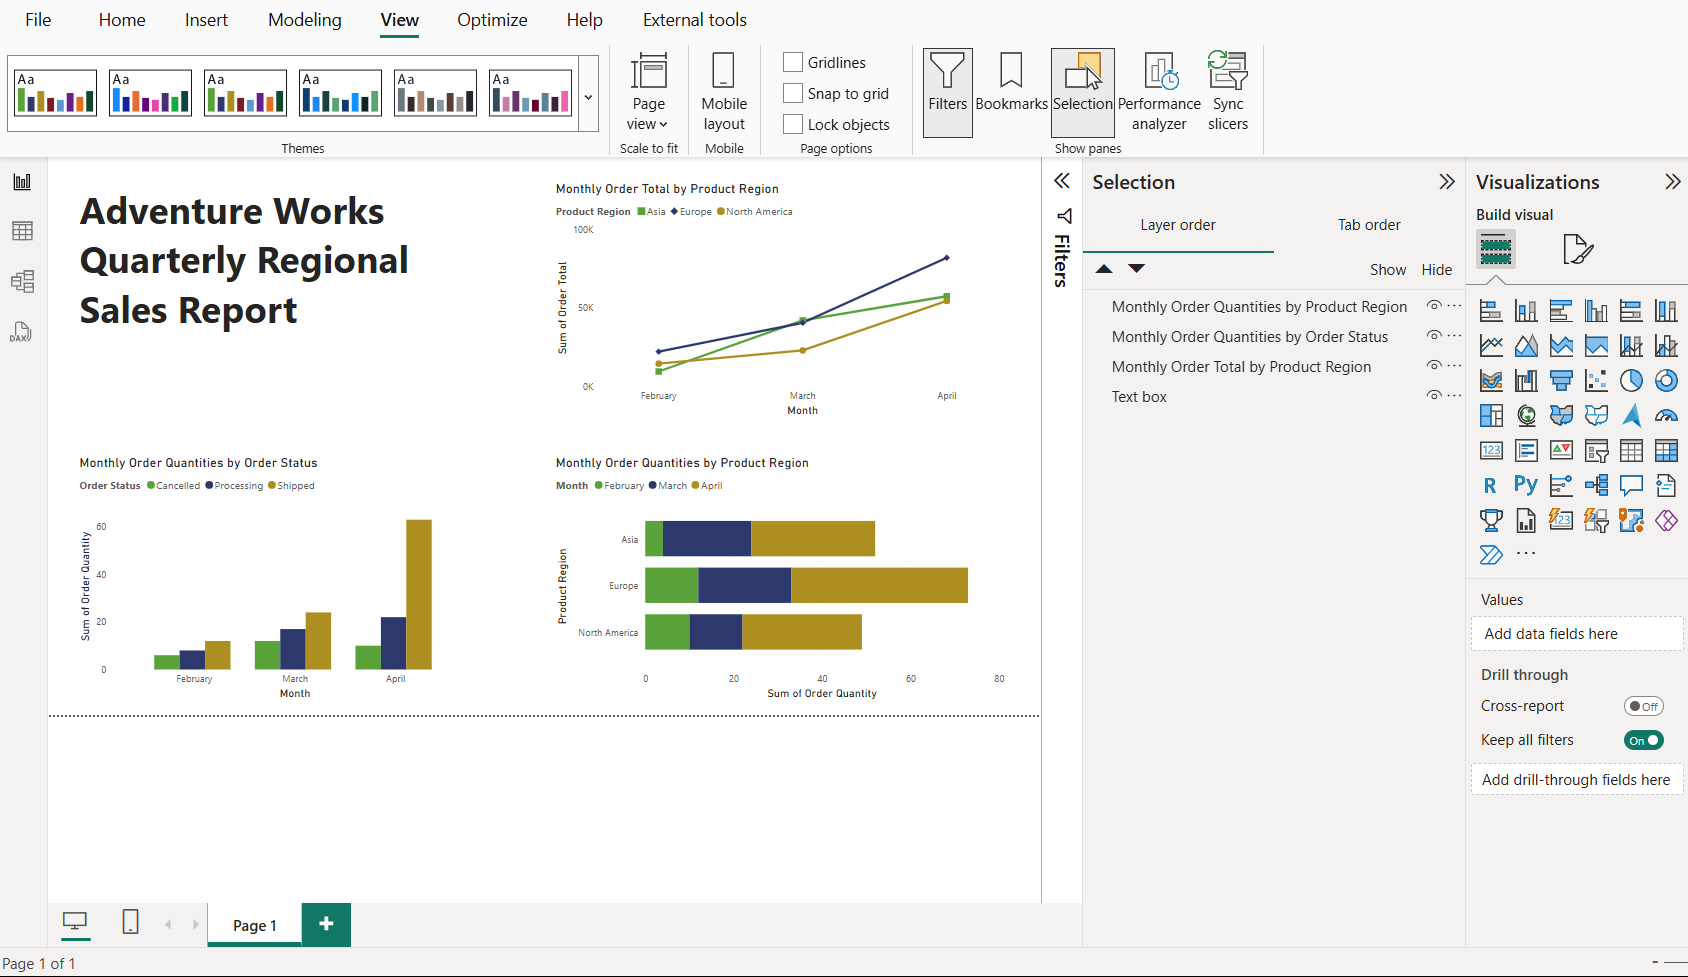

The page's visual inventory and layout, read from the dashboard file:
{"tool":"powerbi","page":{"name":"Page 1","canvas":[1280,720],"ordinal":0},"visuals":[{"type":"barChart","title":"Monthly Order Quantities by Product Region","fields":{"Category":["Sales.Product Region"],"Y":["Sum(Sales.Order Quantity)"],"Series":["Sales.Order Date.Variation.Date Hierarchy.Month"]},"box":[650,384,589,321],"z":3000},{"type":"clusteredColumnChart","title":"Monthly Order Quantities by Order Status","fields":{"Category":["Sales.Month"],"Y":["Sum(Sales.Order Quantity)"],"Series":["Sales.Order Status"]},"box":[36,384,522,321],"z":3125},{"type":"lineChart","title":"Monthly Order Total by Product Region","fields":{"Category":["Sales.Month"],"Y":["Sum(Sales.Order Total)"],"Series":["Sales.Product Region"]},"box":[650,30,589,309],"z":3250},{"type":"textbox","box":[36.2,29.8,522.2,309.5],"z":3500}]}

Visuals, with their boxes on the page's 1280x720 design canvas (x1, y1, x2, y2). These are canvas units, not pixel positions in the 1688x977 screenshot, which may show the page scaled, cropped or inside an application window:
"Monthly Order Quantities by Product Region" barChart: (x1=650, y1=384, x2=1239, y2=705)
"Monthly Order Quantities by Order Status" clusteredColumnChart: (x1=36, y1=384, x2=558, y2=705)
"Monthly Order Total by Product Region" lineChart: (x1=650, y1=30, x2=1239, y2=339)
textbox: (x1=36, y1=30, x2=558, y2=339)
